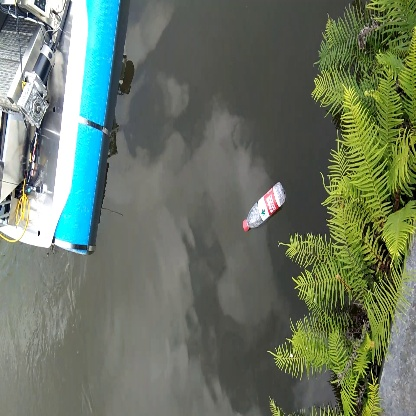bottle: (237, 178, 292, 234)
